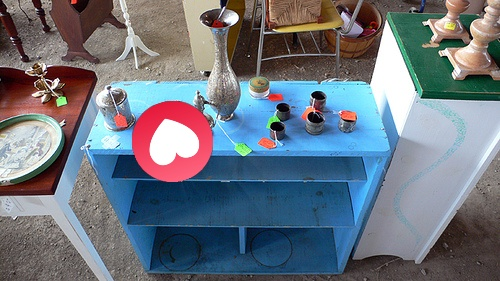love: (132, 101, 213, 182)
